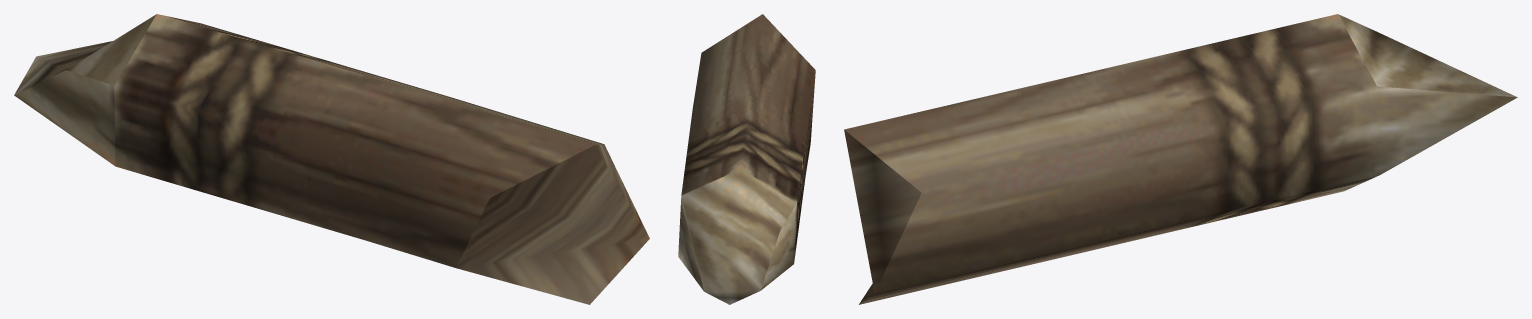
The model's file is 4008_Item_zhalan_4.FBX.
3 views of the same model, side by side, from view 1: azimuth 30°, elevation 25°; view 2: azimuth 150°, elevation 25°; view 3: azimuth 270°, elevation 25° (orthographic). The views are drawn at different scales.
Parts seen in each view (by area): view 1: 4008_Item_zhalan_4; view 2: 4008_Item_zhalan_4; view 3: 4008_Item_zhalan_4.
Boxes of the visible parts, <box> form: 4008_Item_zhalan_4: <box>14,14,649,304</box>; 4008_Item_zhalan_4: <box>678,14,815,304</box>; 4008_Item_zhalan_4: <box>844,14,1517,304</box>.
Size of the model in its own units: 135 by 63.07 by 208.
